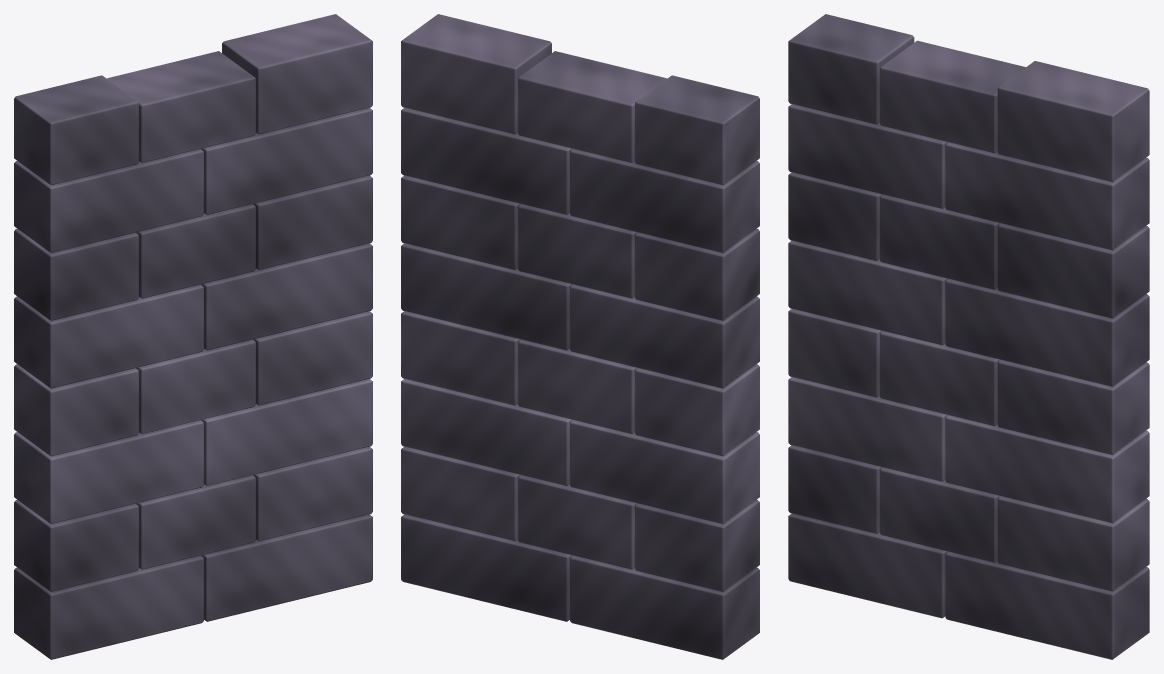
Rendered from Furn_Dun_Wall.fbx.
3 views of the same model, side by side, from view 1: azimuth 30°, elevation 25°; view 2: azimuth 150°, elevation 25°; view 3: azimuth 330°, elevation 25° (orthographic).
Visible parts, largest first — view 1: Furn_Dun_Wall; view 2: Furn_Dun_Wall; view 3: Furn_Dun_Wall.
Boxes of the visible parts, x1,y1,x2,y2 form: Furn_Dun_Wall: [14, 14, 372, 659]; Furn_Dun_Wall: [401, 14, 759, 659]; Furn_Dun_Wall: [788, 14, 1149, 659].
Bounding box in the file's own units: 2 × 3.2 × 0.4.
1 material, 1 textured.
